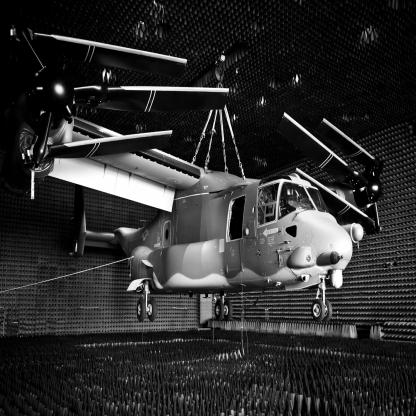V22: (1, 24, 385, 323)
